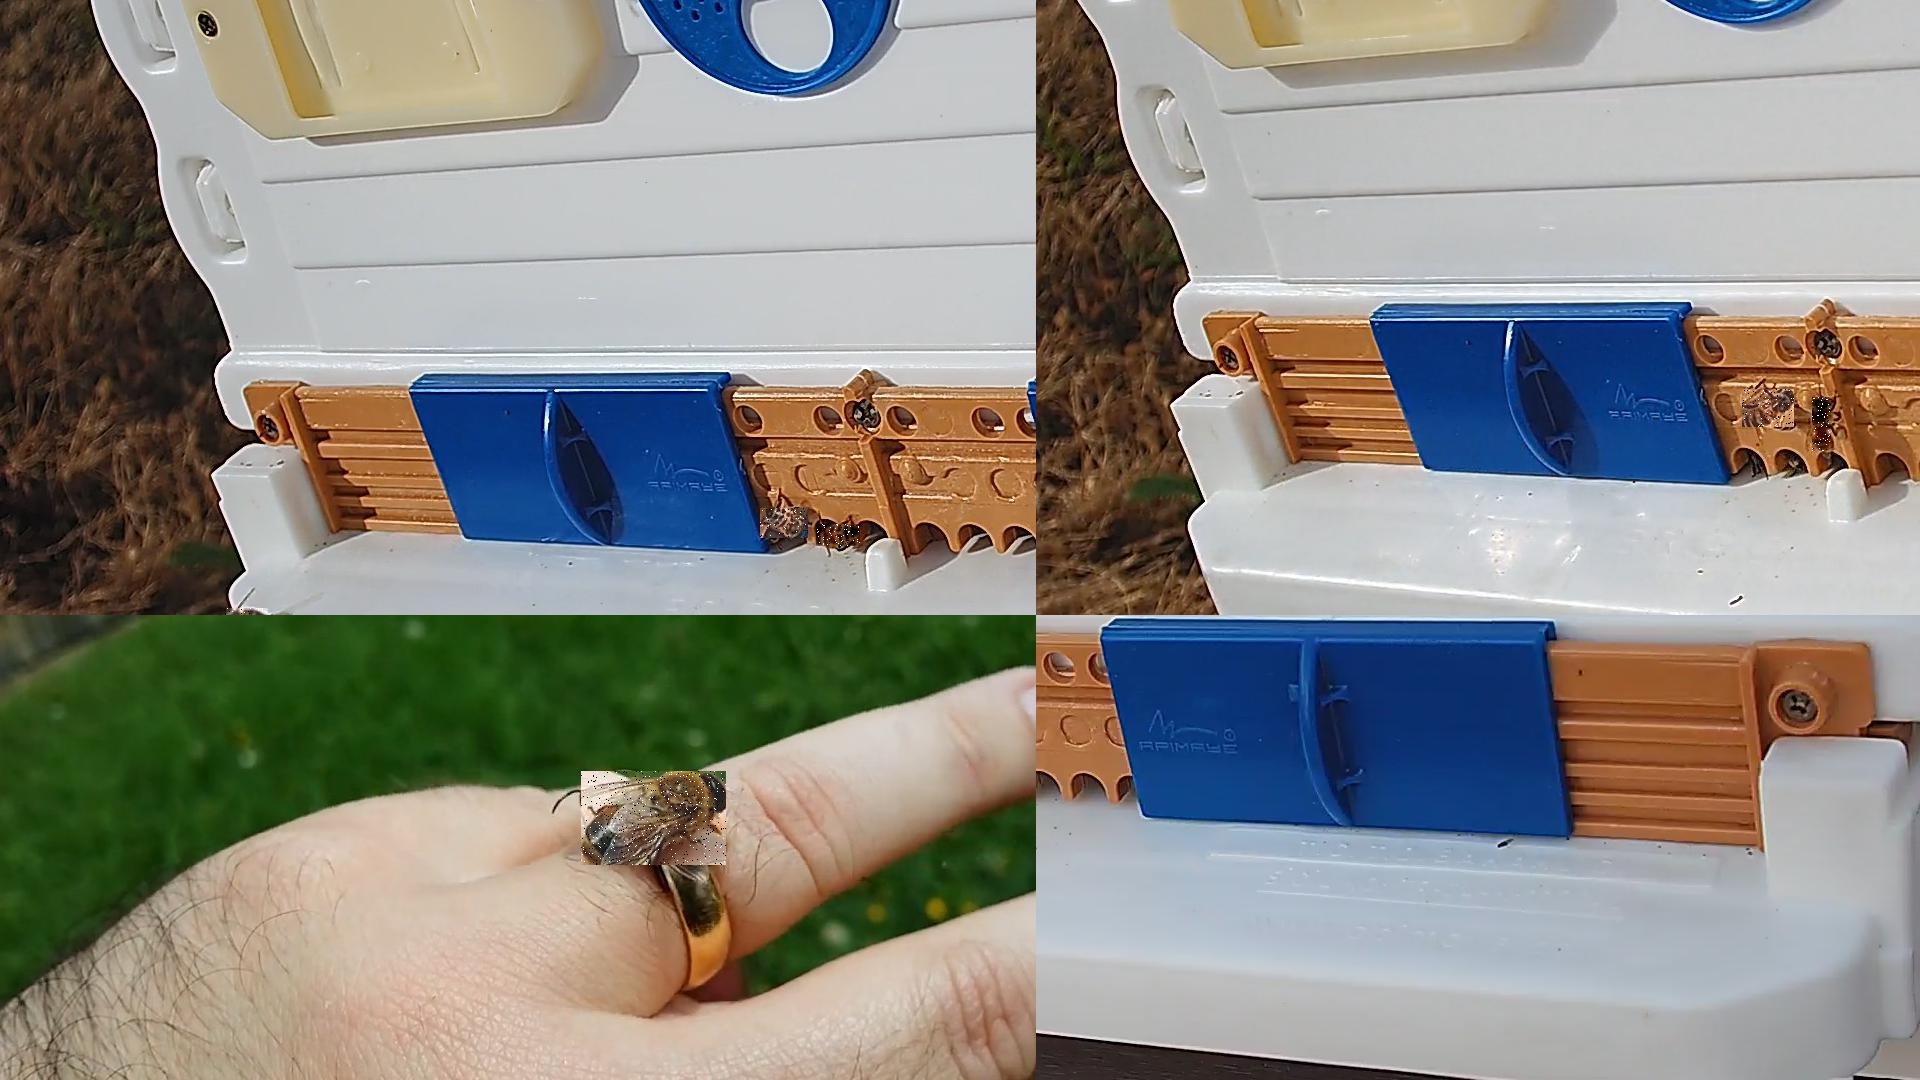bee: (1742, 389, 1795, 429), (761, 508, 810, 539), (816, 524, 861, 547), (1813, 397, 1832, 452), (225, 608, 270, 615)
drone: (582, 771, 727, 866)
